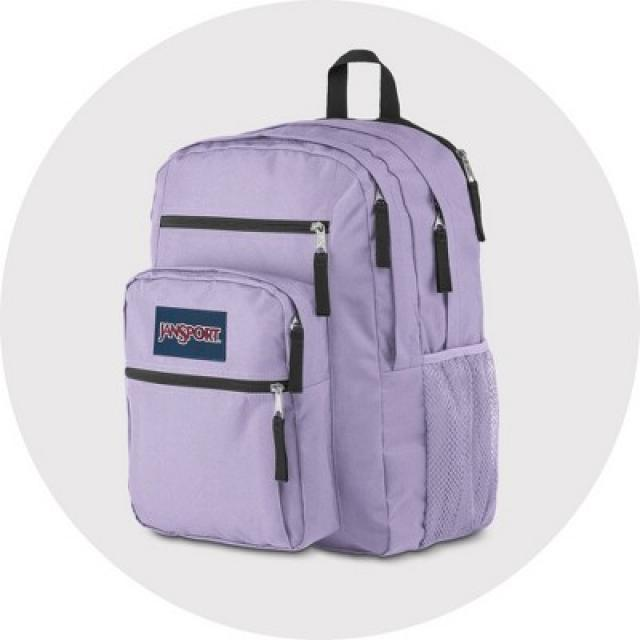Backpacks: (124, 108, 500, 562)
